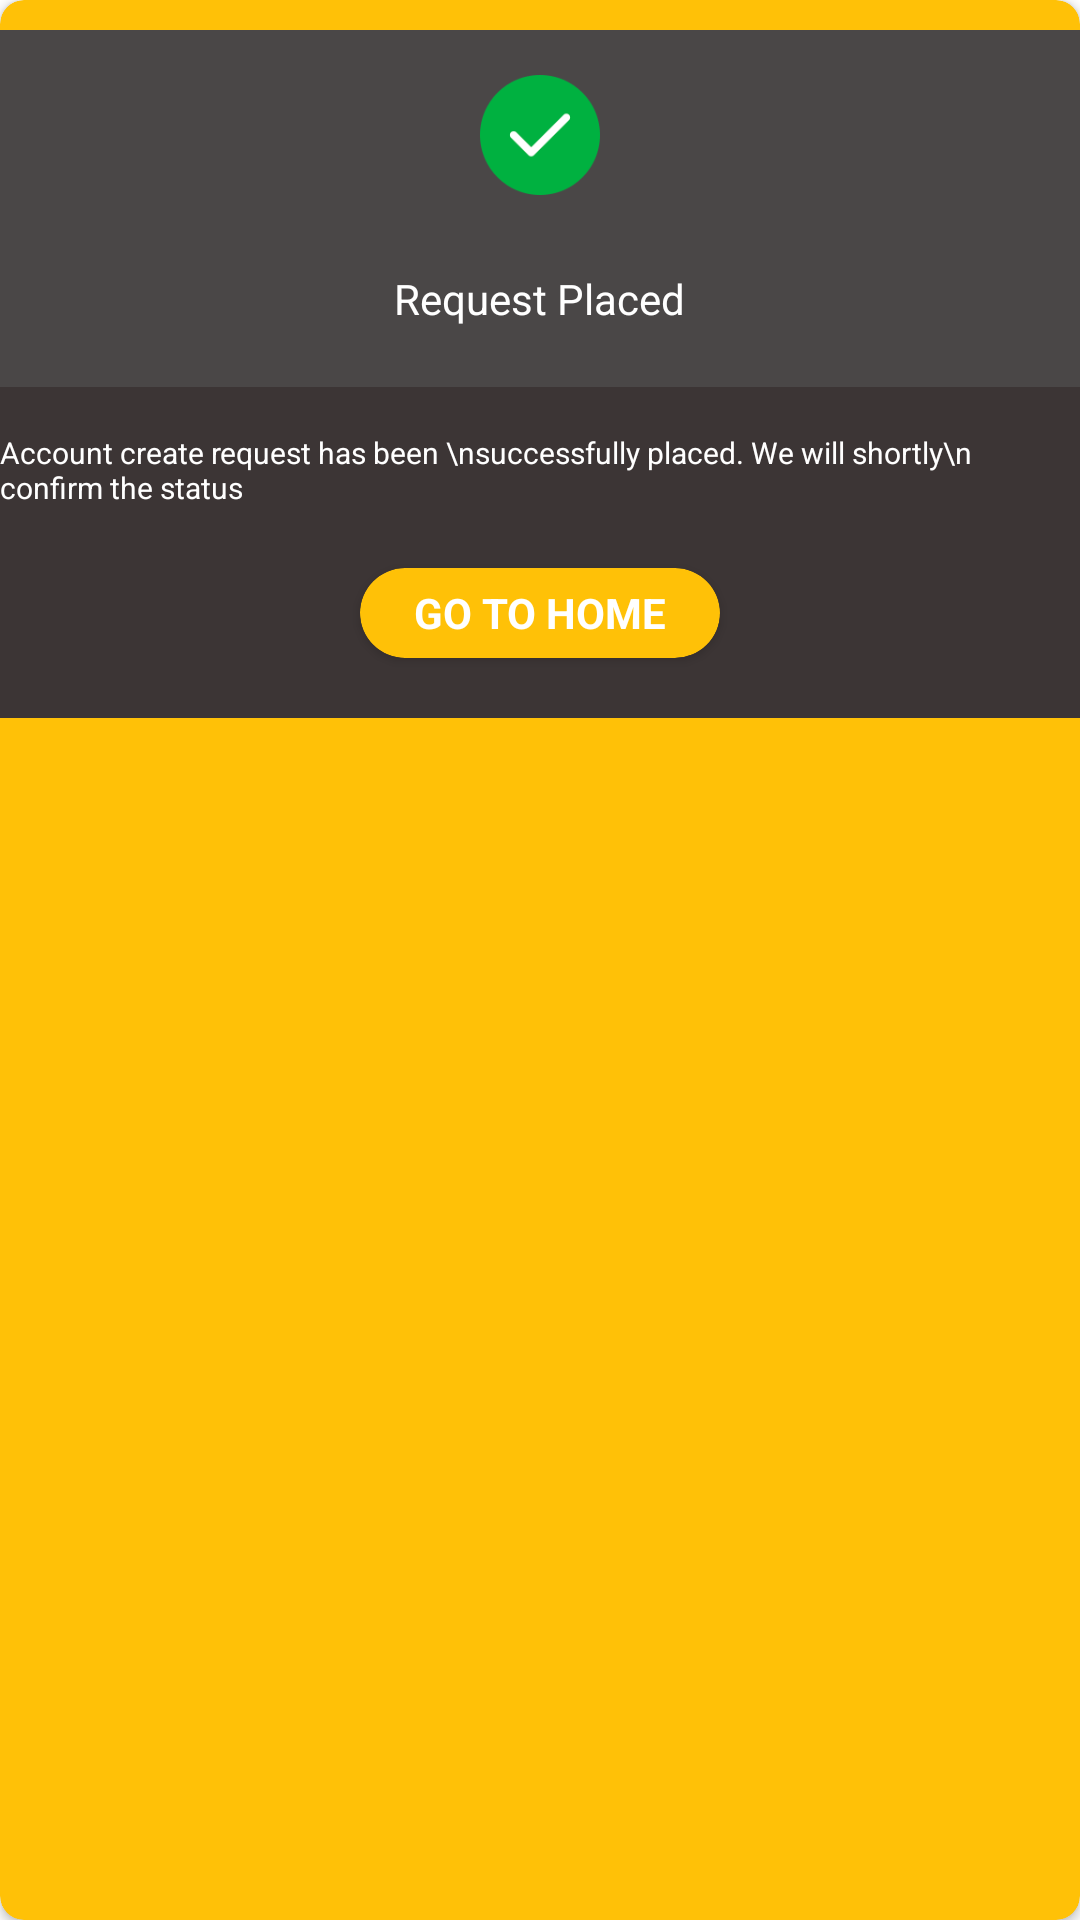

Named icons in this screenshot (1080 × 1920) and their centers, point (x, y):
right: point (540, 135)
